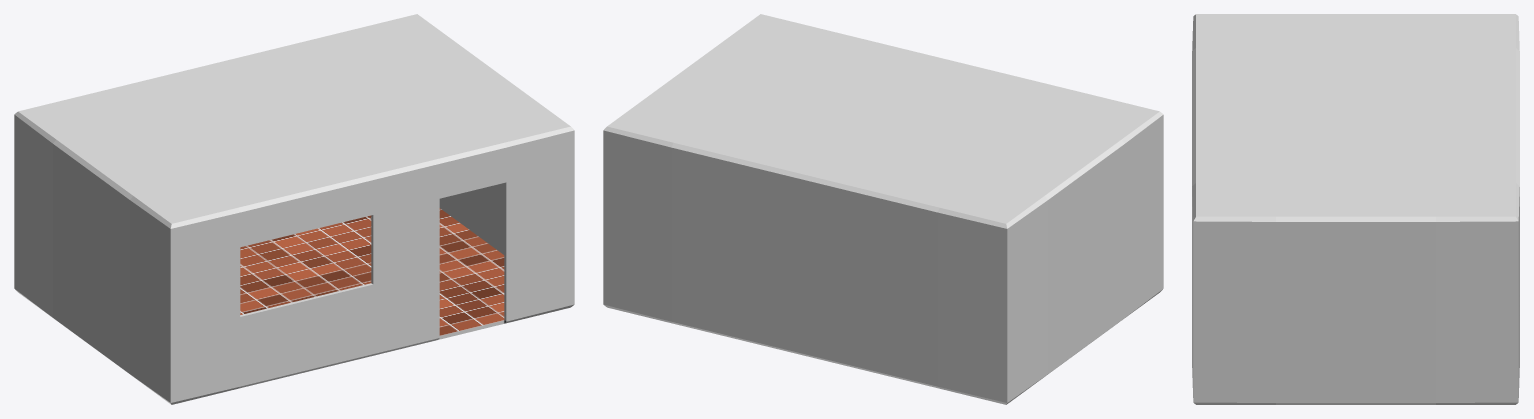
3 views of the same model, side by side, from view 1: azimuth 30°, elevation 25°; view 2: azimuth 150°, elevation 25°; view 3: azimuth 270°, elevation 25° (orthographic). The views are drawn at different scales.
Parts seen in each view (by area): view 1: Building_Baked; view 2: Building_Baked; view 3: Building_Baked.
Part boxes in pixels (left/top/right/bottom): Building_Baked: left=14, top=14, right=574, bottom=404; Building_Baked: left=603, top=14, right=1163, bottom=404; Building_Baked: left=1192, top=14, right=1519, bottom=404.
Bounding box in the file's own units: 6.1 × 2.6 × 4.1.
Materials: 1 (1 with a texture image).
